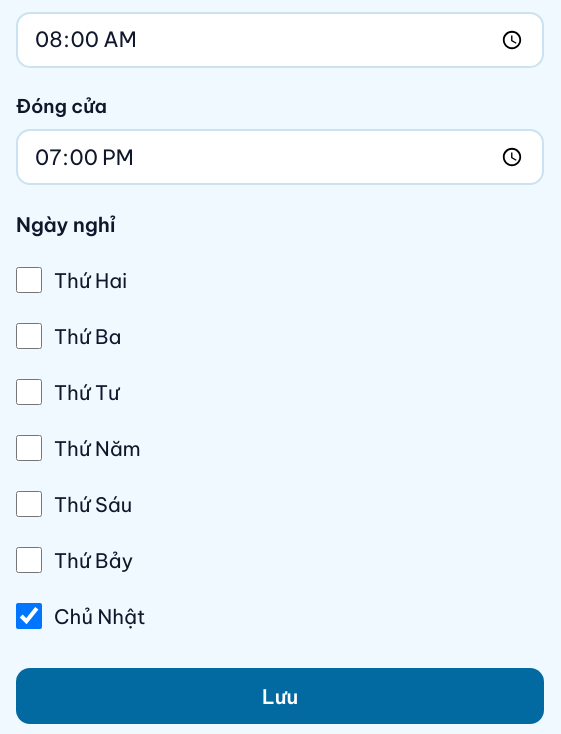
ShopHoursScreen › 4. sau PUT thành công: trạng thái ĐÃ LƯU bằng chữ, không chỉ đổi màu
(page scrolled)
Expected: the time field labelled "Mở cửa" is shown, left=16, top=12, right=544, bottom=68
Step 1. Click the button "Lưu" → click(280, 696), box left=16, top=668, right=544, bottom=724
(page scrolled)
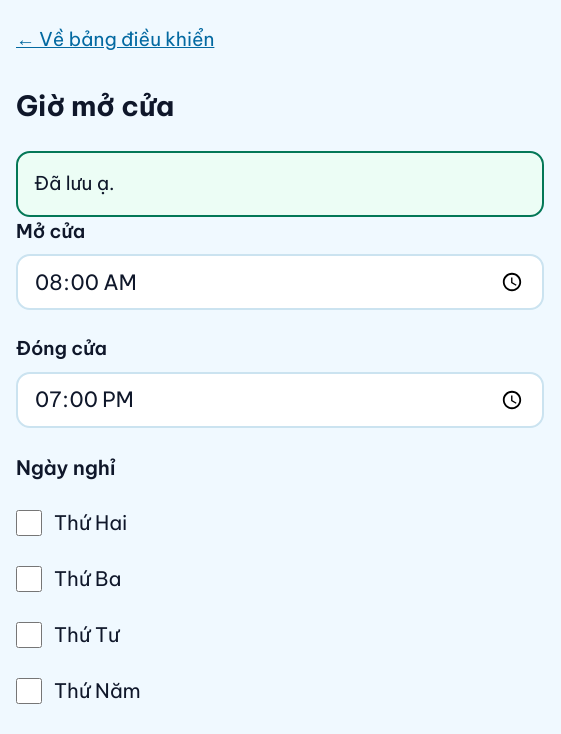
Now the text "Đã lưu ạ." is shown, box left=16, top=151, right=544, bottom=217
